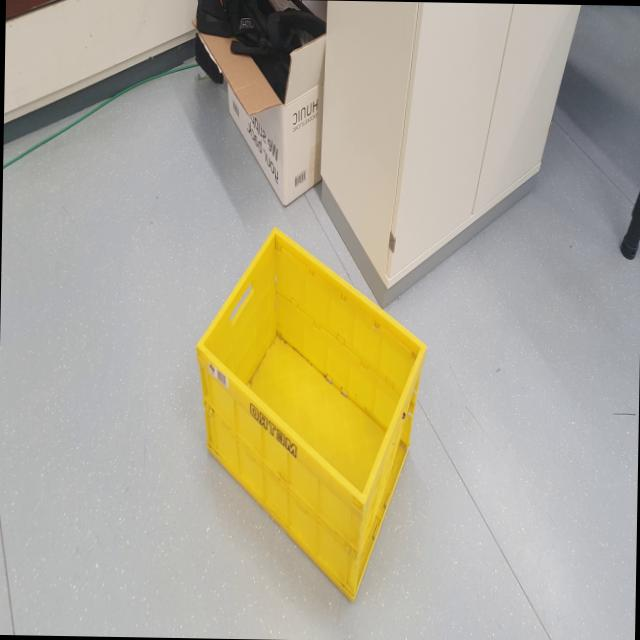box: (185, 218, 436, 610)
